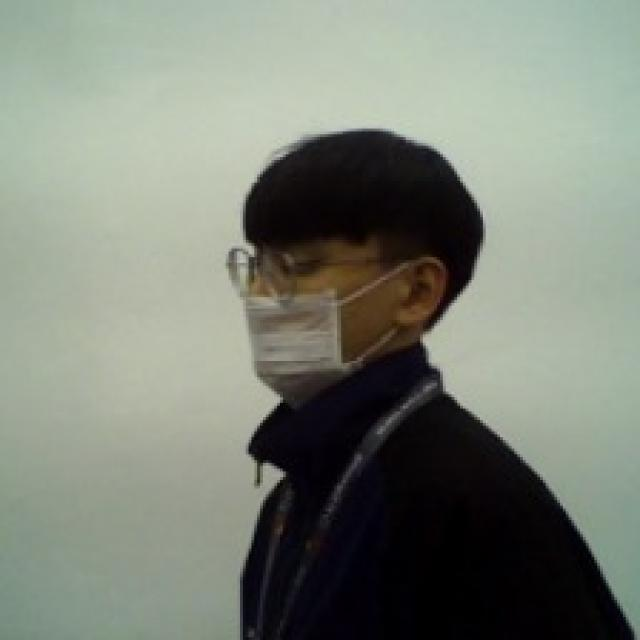mask: (237, 247, 449, 420)
no_gloves: (239, 120, 488, 332)
